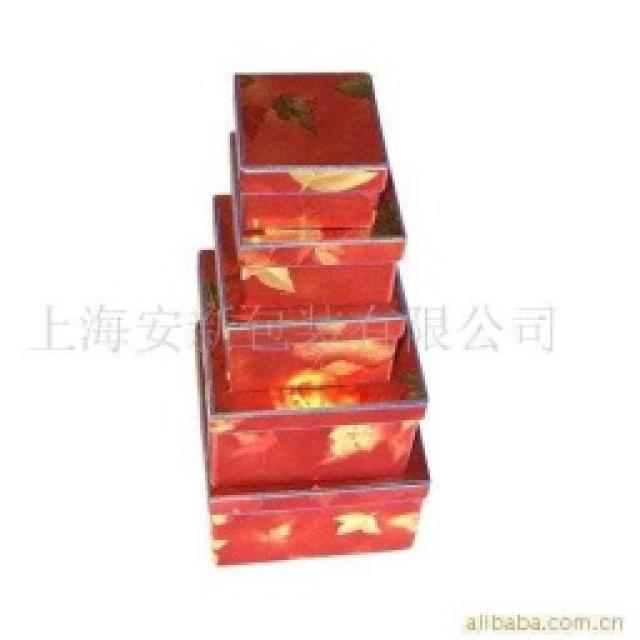box: (181, 246, 437, 469), (194, 323, 433, 557), (204, 196, 411, 392), (227, 147, 421, 300), (232, 74, 396, 227)
